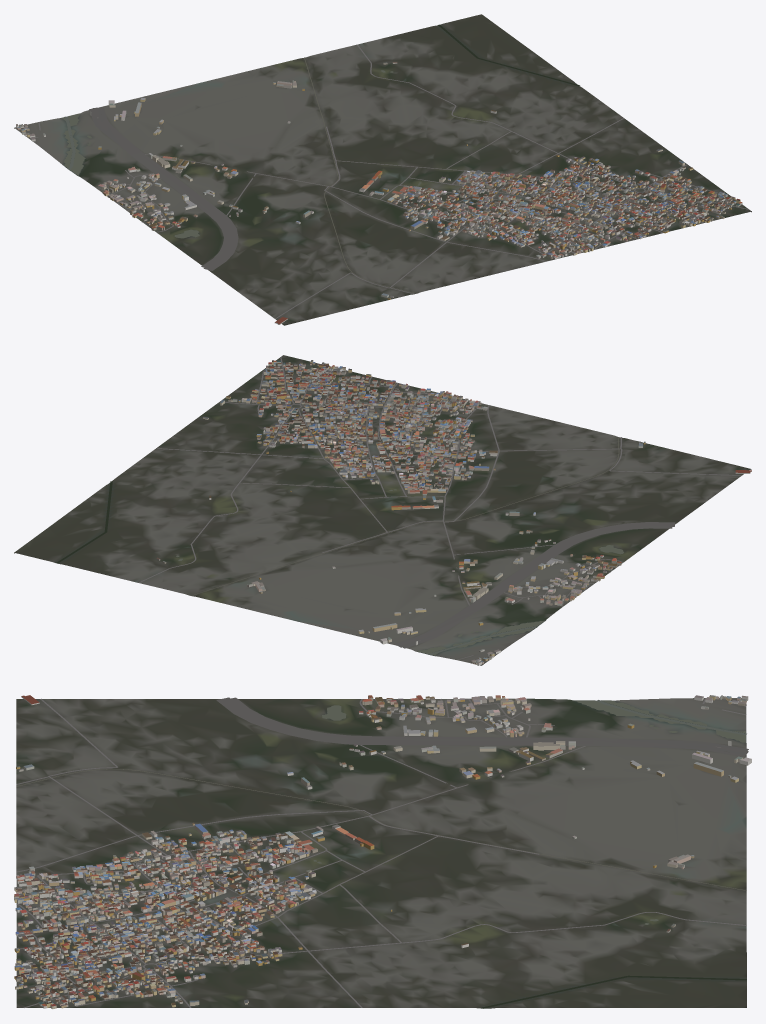
3 renders of one model, top to bottom at view 1: azimuth 30°, elevation 25°; view 2: azimuth 150°, elevation 25°; view 3: azimuth 270°, elevation 25°, orthographic. The views are drawn at different scales.
Parts seen in each view (by area): view 1: ground, buildings, roads, water; view 2: ground, buildings, roads, water; view 3: ground, buildings, roads, water.
Boxes of the visible parts, box(x1,y1,x2,y2) form: ground: box(14, 14, 751, 325); buildings: box(16, 62, 742, 324); roads: box(29, 44, 748, 318); water: box(61, 24, 579, 293); ground: box(14, 355, 751, 665); buildings: box(156, 360, 751, 665); roads: box(138, 357, 741, 663); water: box(56, 437, 623, 655); ground: box(16, 698, 746, 1008); buildings: box(14, 695, 751, 1009); roads: box(16, 697, 748, 1007); water: box(16, 700, 746, 1008).
Bounding box in the file's own units: 1421 × 19.29 × 1417.
